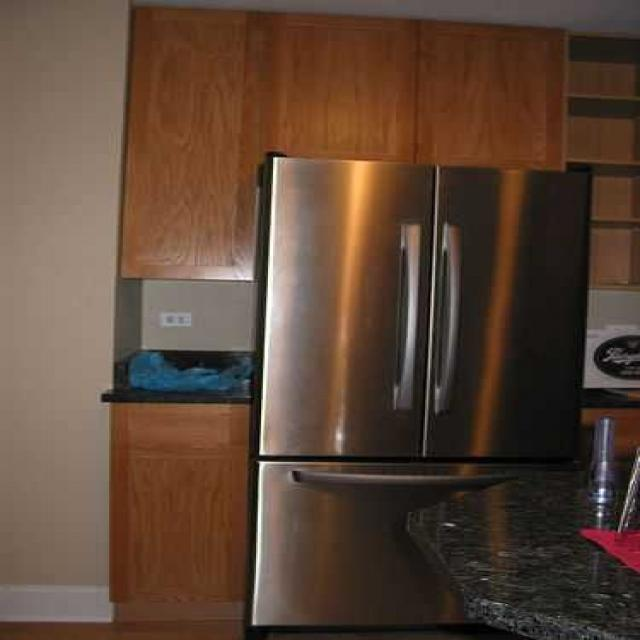refrigerator: (245, 155, 600, 639)
